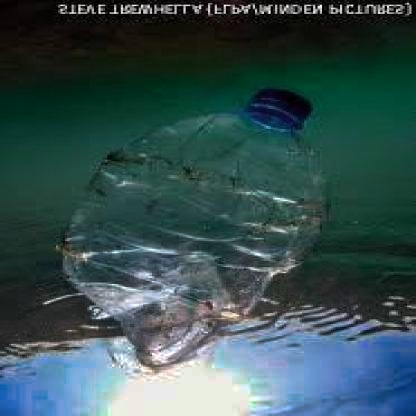pbottle: (49, 82, 342, 372)
